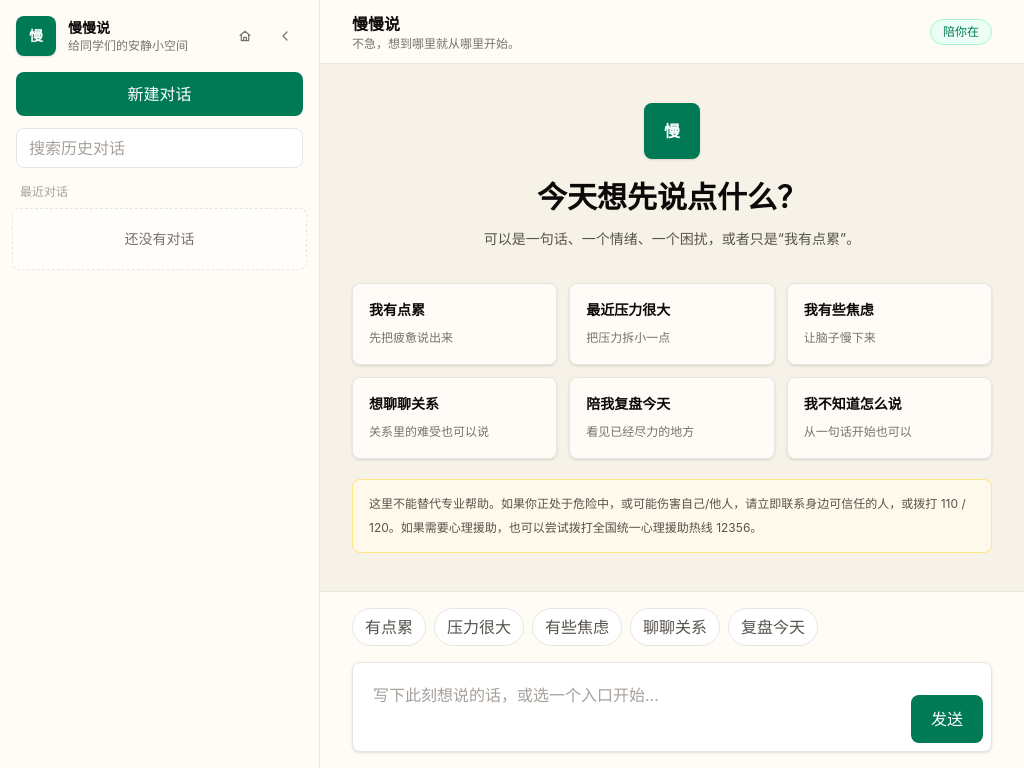
ChatApp › announces chat errors with an alert
Type "hello" into the text box named "消息输入" at (630, 707), box [361, 671, 899, 743]
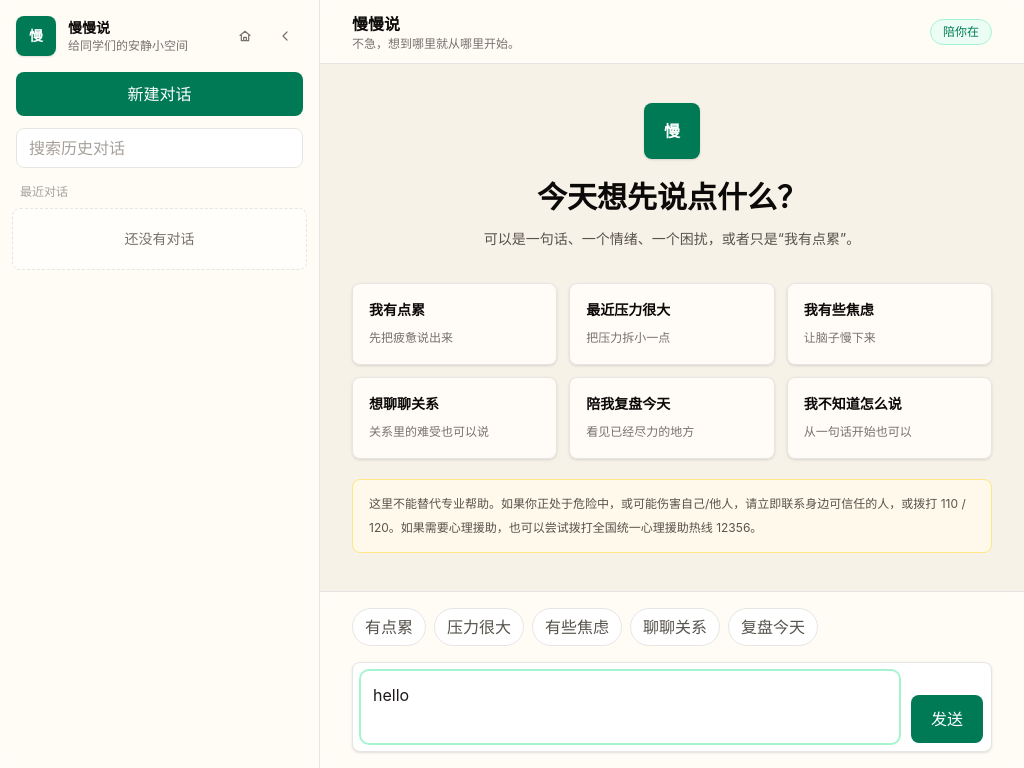
Press Enter
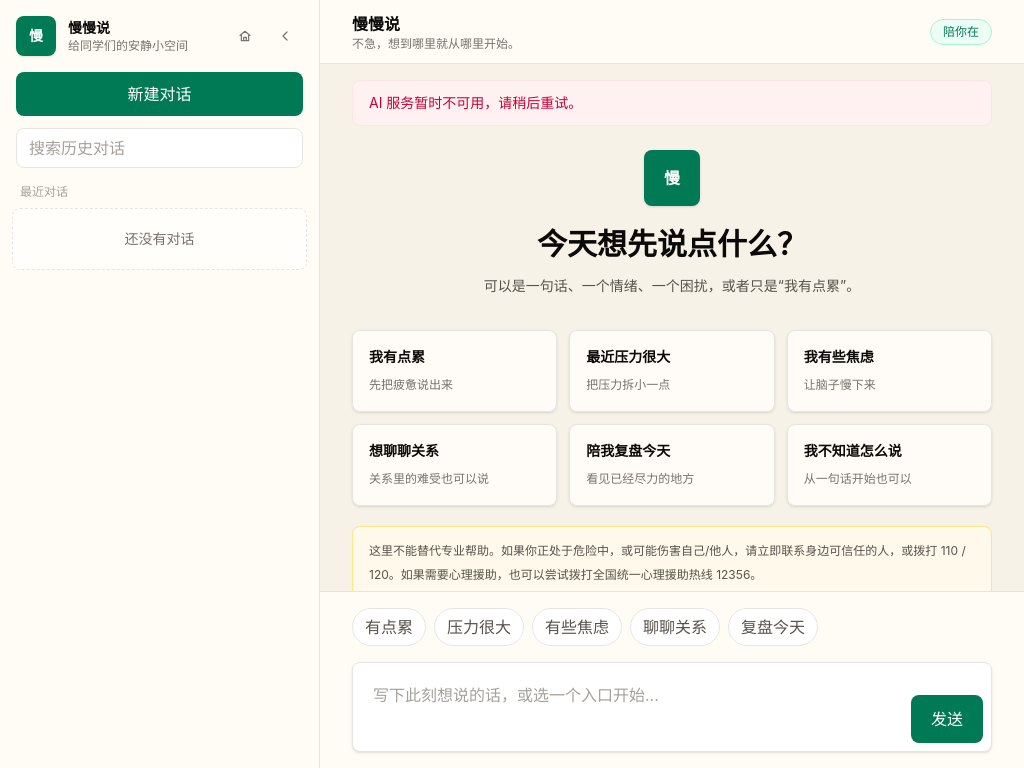
Now the message reads "AI 服务暂时不可用，请稍后重试。", box [369, 94, 582, 111]
